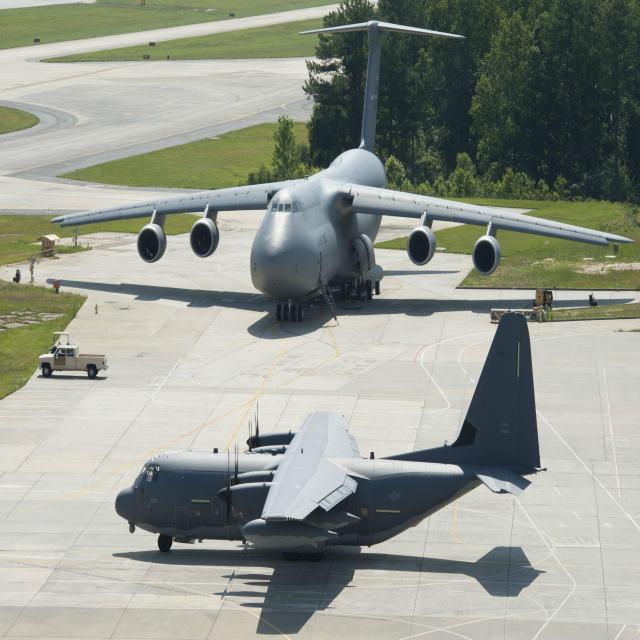MIL_Plane: (49, 23, 636, 324), (275, 0, 387, 241)
